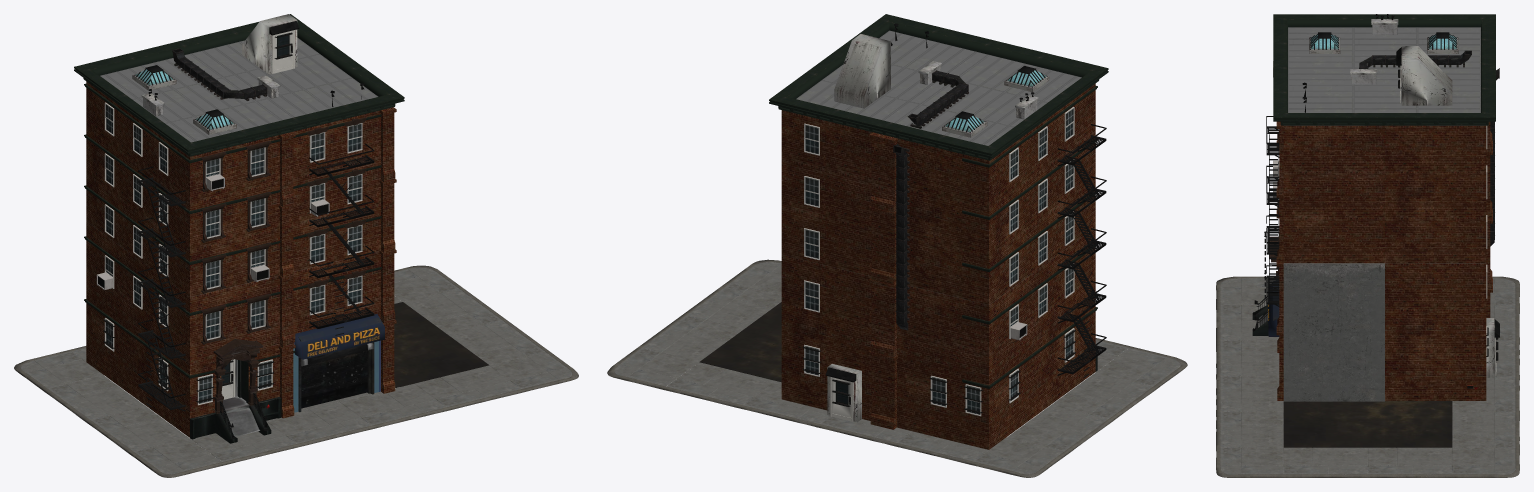
Rendered from city_apartment_building.glb.
The picture shows the model from 3 angles, left to right: view 1: azimuth 30°, elevation 25°; view 2: azimuth 150°, elevation 25°; view 3: azimuth 270°, elevation 25°; orthographic projection. The views are drawn at different scales.
Parts seen in each view (by area): view 1: Object_10, Object_14, Object_16, Object_6, Object_12, Object_8; view 2: Object_10, Object_16, Object_14, Object_12, Object_6, Object_8; view 3: Object_10, Object_16, Object_6, Object_14, Object_12, Object_8.
Part boxes in pixels (x1,y1,x2,y2): Object_10: (86,81,396,443); Object_14: (96,14,384,439); Object_16: (14,265,578,477); Object_6: (100,37,380,412); Object_12: (74,14,404,378); Object_8: (394,302,488,387); Object_10: (781,83,1097,449); Object_16: (607,259,1187,477); Object_14: (803,23,1106,422); Object_12: (769,14,1108,388); Object_6: (796,30,1081,145); Object_8: (699,302,781,382); Object_10: (1252,121,1492,400); Object_16: (1216,276,1519,477); Object_6: (1283,27,1480,401); Object_14: (1253,14,1499,389); Object_12: (1273,14,1495,125); Object_8: (1283,401,1452,447).
Size of the model in its own units: 0.1117 by 0.0853 by 0.0718.
6 materials, 6 textured.
